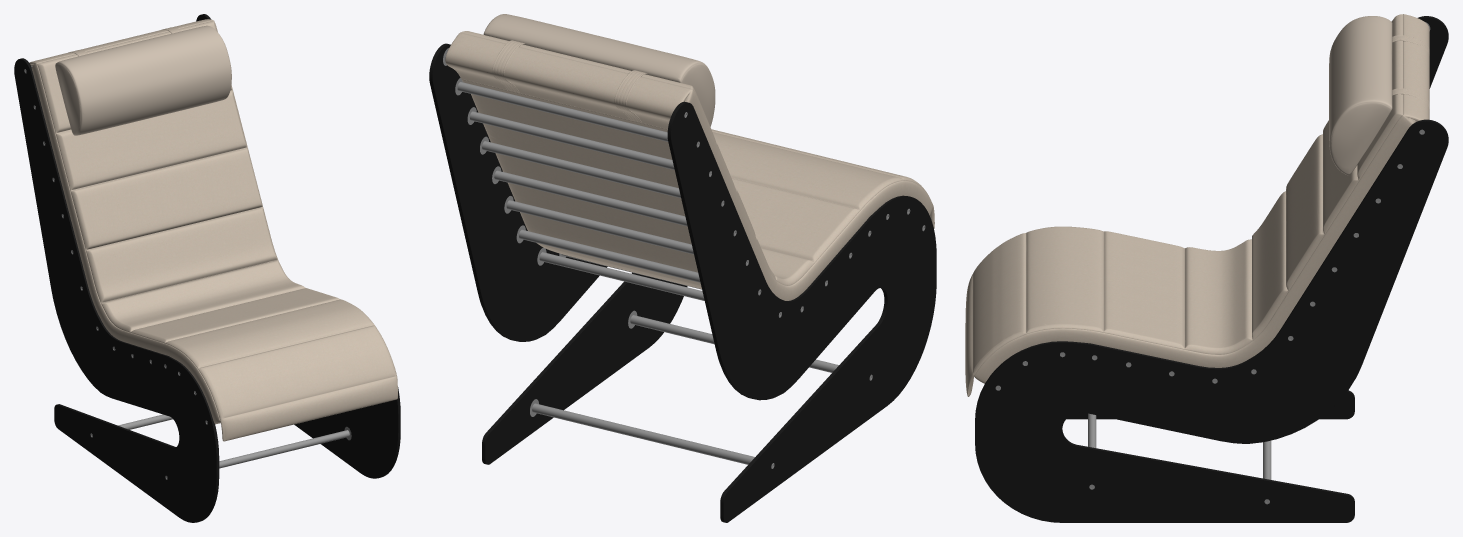
File: angel-poltrona-teknofibra-03.glb
3 renders of one model, left to right at view 1: azimuth 30°, elevation 25°; view 2: azimuth 150°, elevation 25°; view 3: azimuth 270°, elevation 25°, orthographic. The views are drawn at different scales.
Parts seen in each view (by area): view 1: angel-seduta, angel-struttura, angel-tubolare; view 2: angel-struttura, angel-seduta, angel-tubolare; view 3: angel-struttura, angel-seduta, angel-tubolare.
Boxes of the visible parts, x1=… form: angel-seduta: x1=29, y1=19, x2=397, y2=441; angel-struttura: x1=14, y1=14, x2=400, y2=522; angel-tubolare: x1=24, y1=66, x2=351, y2=479; angel-struttura: x1=429, y1=43, x2=936, y2=522; angel-seduta: x1=445, y1=14, x2=934, y2=300; angel-tubolare: x1=443, y1=48, x2=925, y2=468; angel-struttura: x1=975, y1=16, x2=1448, y2=522; angel-seduta: x1=965, y1=14, x2=1429, y2=396; angel-tubolare: x1=995, y1=22, x2=1430, y2=504.
Bounding box in the file's own units: 0.5685 × 1.04 × 1.1.
3 materials, 1 textured.
